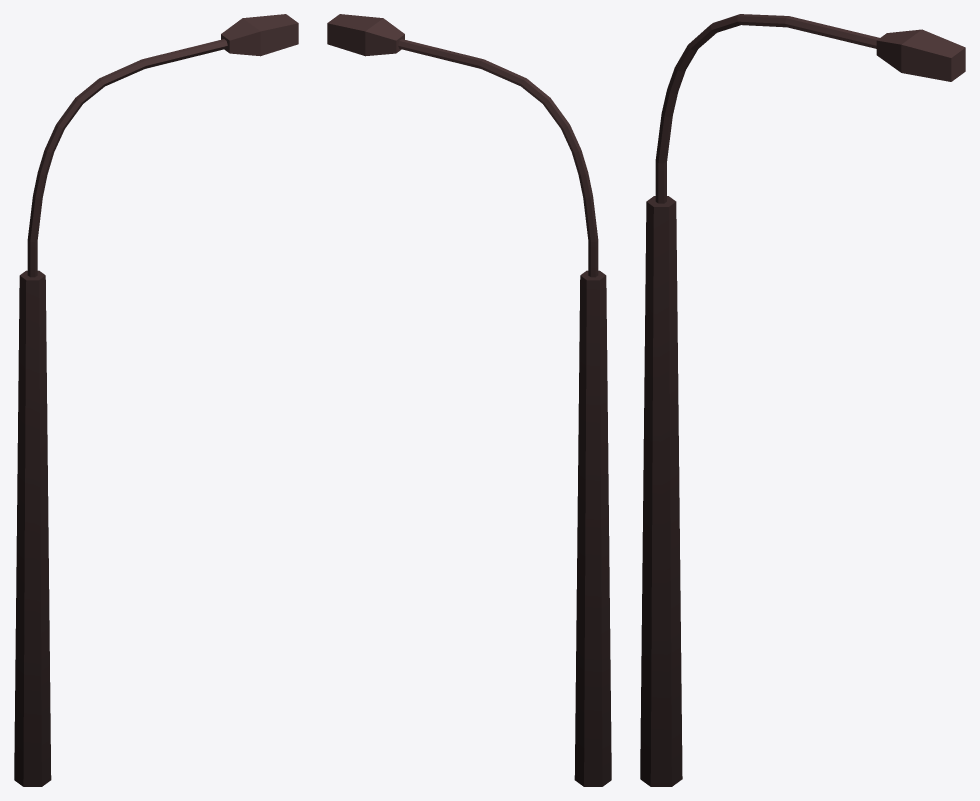
File: Pole.fbx
3 views of the same model, side by side, from view 1: azimuth 30°, elevation 25°; view 2: azimuth 150°, elevation 25°; view 3: azimuth 330°, elevation 25° (orthographic). The views are drawn at different scales.
Visible parts, largest first — view 1: Cylinder, Cube; view 2: Cylinder, Cube; view 3: Cylinder, Cube.
Boxes of the visible parts, <box> form: Cylinder: <box>14,39,227,786</box>; Cube: <box>221,14,298,56</box>; Cylinder: <box>398,39,611,786</box>; Cube: <box>327,14,404,56</box>; Cylinder: <box>640,14,879,786</box>; Cube: <box>876,29,965,81</box>.
Size of the model in its own units: 1349 by 3307 by 158.
